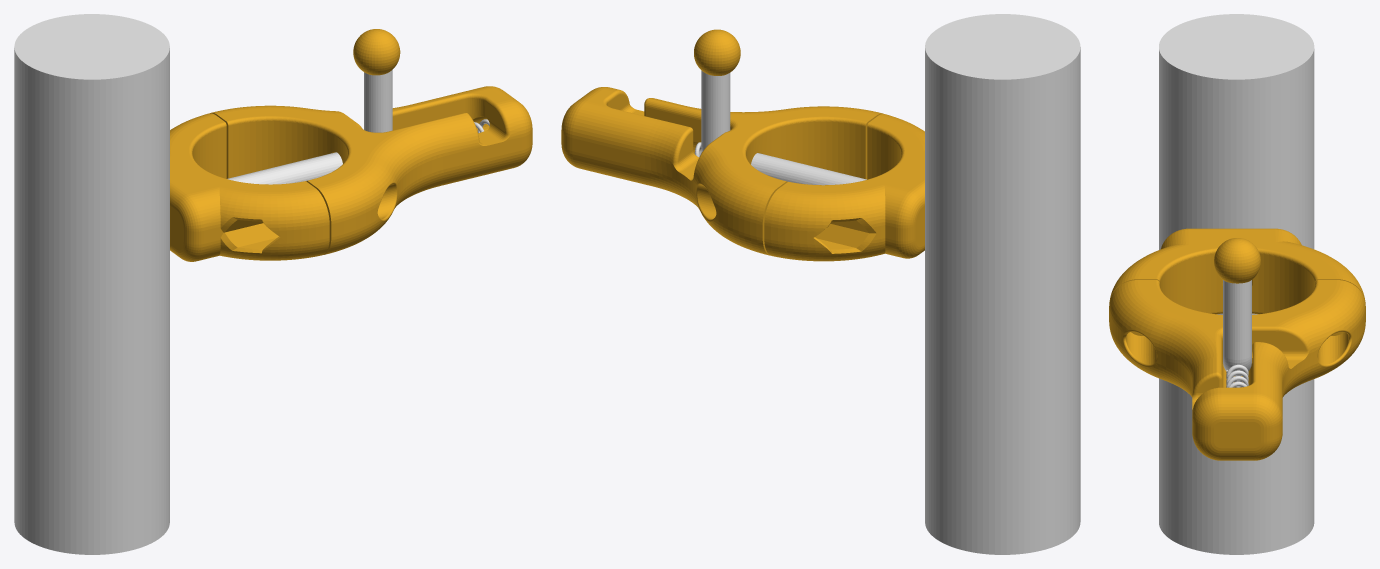
File: vartupulkis.glb
3 renders of one model, left to right at view 1: azimuth 30°, elevation 25°; view 2: azimuth 150°, elevation 25°; view 3: azimuth 270°, elevation 25°, orthographic.
Visible parts, largest first — view 1: vaartu_pulkis_v3003, vaartu_pulkis_v3001, vaartu_pulkis_v3, vaartu_pulkis_v3002, vaartu_pulkis_v3006; view 2: vaartu_pulkis_v3003, vaartu_pulkis_v3001, vaartu_pulkis_v3, vaartu_pulkis_v3002, vaartu_pulkis_v3006; view 3: vaartu_pulkis_v3003, vaartu_pulkis_v3001, vaartu_pulkis_v3, vaartu_pulkis_v3002, vaartu_pulkis_v3006, vaartu_pulkis_v3004.
Part boxes in pixels (bbox=[...]): vaartu_pulkis_v3003: bbox=[14, 14, 169, 554]; vaartu_pulkis_v3001: bbox=[210, 86, 532, 254]; vaartu_pulkis_v3: bbox=[170, 113, 329, 261]; vaartu_pulkis_v3002: bbox=[227, 70, 392, 184]; vaartu_pulkis_v3006: bbox=[353, 29, 400, 75]; vaartu_pulkis_v3003: bbox=[925, 14, 1080, 554]; vaartu_pulkis_v3001: bbox=[561, 87, 883, 255]; vaartu_pulkis_v3: bbox=[764, 114, 924, 261]; vaartu_pulkis_v3002: bbox=[701, 70, 866, 185]; vaartu_pulkis_v3006: bbox=[694, 29, 740, 75]; vaartu_pulkis_v3003: bbox=[1159, 14, 1314, 554]; vaartu_pulkis_v3001: bbox=[1109, 280, 1365, 460]; vaartu_pulkis_v3: bbox=[1109, 228, 1365, 314]; vaartu_pulkis_v3002: bbox=[1223, 280, 1251, 376]; vaartu_pulkis_v3006: bbox=[1214, 238, 1260, 283]; vaartu_pulkis_v3004: bbox=[1226, 364, 1248, 387].
Size of the model in its own units: 158 by 145 by 70.97.
